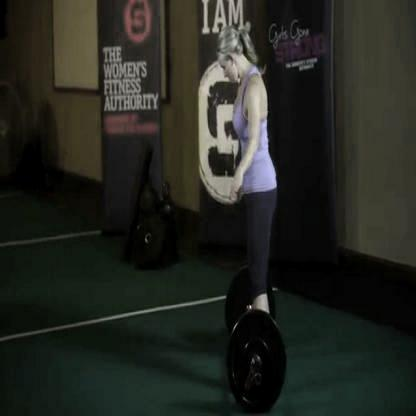Barbell: (252, 367, 265, 393)
